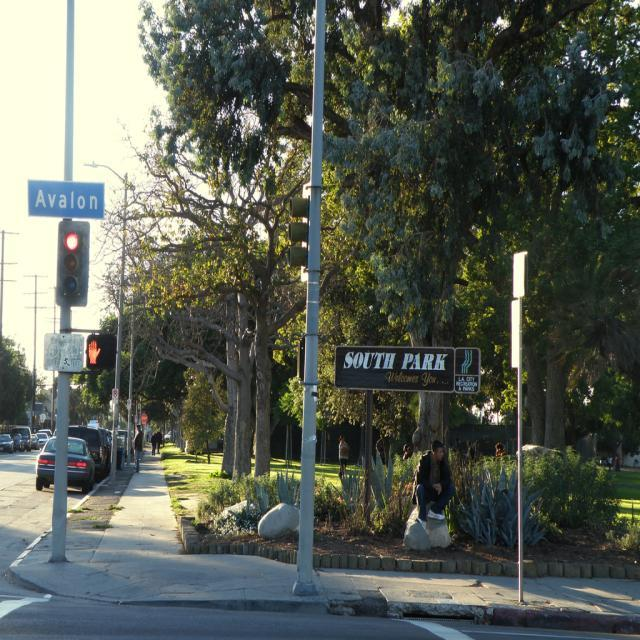traffic light: (58, 220, 88, 310)
